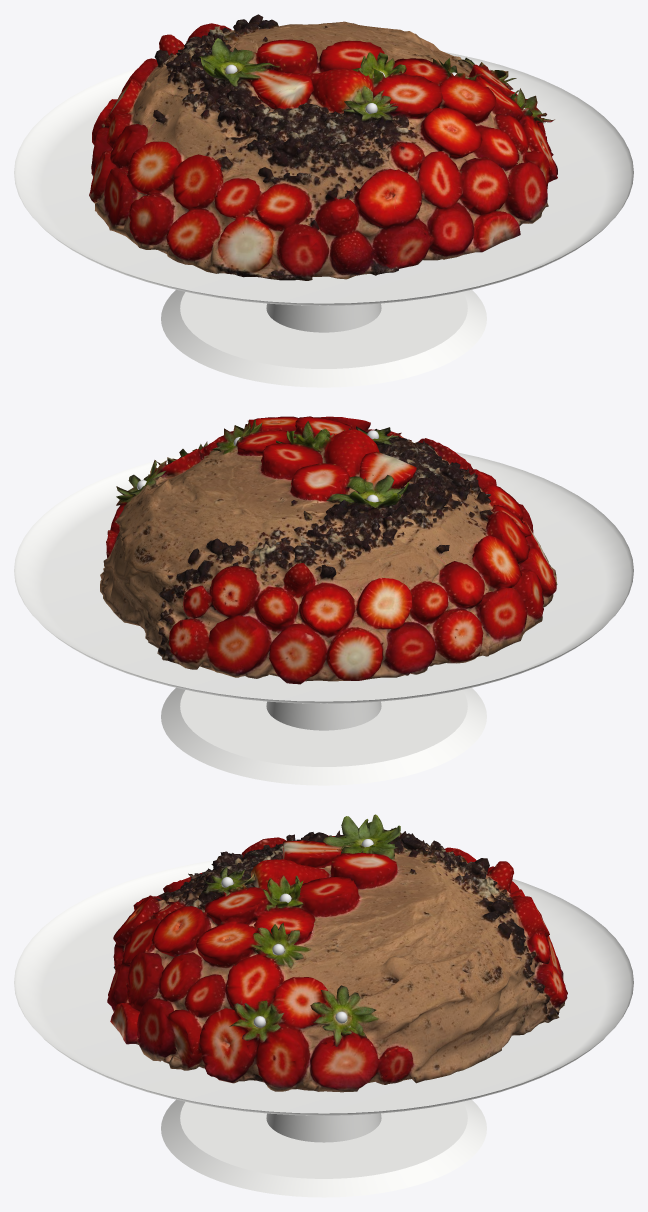
Rendered from torta-frutilla-chocolate.glb.
3 renders of one model, top to bottom at view 1: azimuth 30°, elevation 25°; view 2: azimuth 150°, elevation 25°; view 3: azimuth 270°, elevation 25°, orthographic.
Parts seen in each view (by area): view 1: strawberry_chocolate_cake, object 4, object 2, object 3; view 2: strawberry_chocolate_cake, object 4, object 2, object 3; view 3: strawberry_chocolate_cake, object 4, object 2, object 3.
Boxes of the visible parts, <box> form: strawberry_chocolate_cake: <box>89,14,557,280</box>; object 4: <box>14,52,633,305</box>; object 2: <box>161,289,486,387</box>; object 3: <box>266,303,381,332</box>; strawberry_chocolate_cake: <box>100,416,557,684</box>; object 4: <box>14,452,633,703</box>; object 2: <box>161,687,486,785</box>; object 3: <box>266,701,381,730</box>; strawberry_chocolate_cake: <box>107,814,567,1092</box>; object 4: <box>14,859,633,1115</box>; object 2: <box>161,1099,486,1197</box>; object 3: <box>266,1113,381,1142</box>.
Size of the model in its own units: 0.3232 by 0.1552 by 0.3232.
3 materials, 1 textured.
